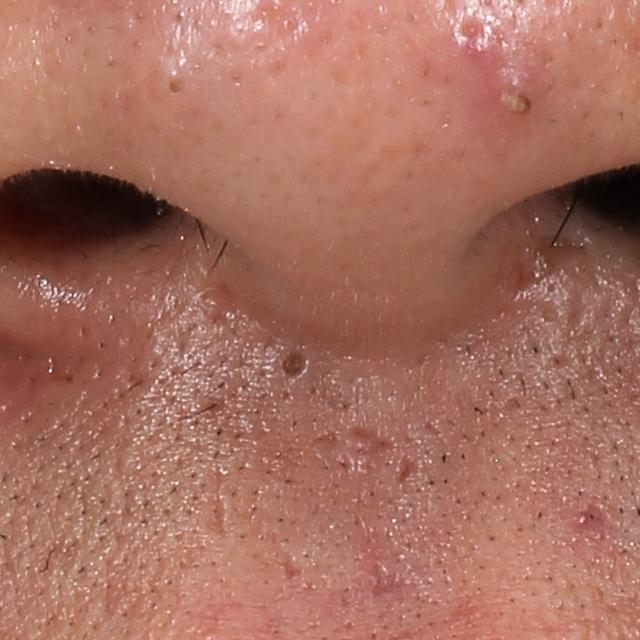atrophic_scar: (357, 562, 432, 615), (568, 490, 624, 539), (348, 427, 394, 485), (538, 350, 606, 385), (471, 393, 536, 429), (279, 548, 309, 599), (210, 473, 227, 553), (395, 449, 419, 488)
comedo: (276, 344, 312, 383), (167, 74, 184, 98)
pustule: (489, 67, 542, 124)
